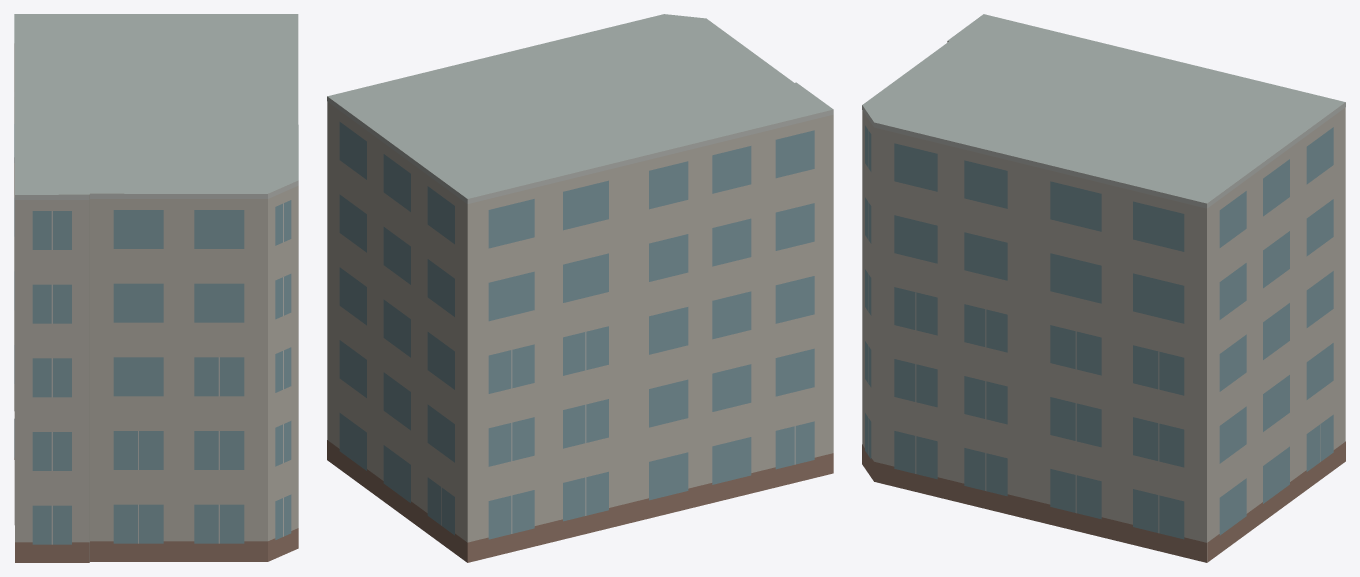
Rendered from survey-upis-32597263.glb.
3 views of the same model, side by side, from view 1: azimuth 30°, elevation 25°; view 2: azimuth 150°, elevation 25°; view 3: azimuth 270°, elevation 25° (orthographic). The views are drawn at different scales.
Visible parts, largest first — view 1: survey-upis-32597263.tmp; view 2: survey-upis-32597263.tmp; view 3: survey-upis-32597263.tmp.
Part boxes in pixels (left/top/right/bottom): survey-upis-32597263.tmp: left=14, top=14, right=298, bottom=562; survey-upis-32597263.tmp: left=327, top=14, right=833, bottom=562; survey-upis-32597263.tmp: left=862, top=14, right=1345, bottom=562.
Bounding box in the file's own units: 19.58 × 17.3 × 21.11.
